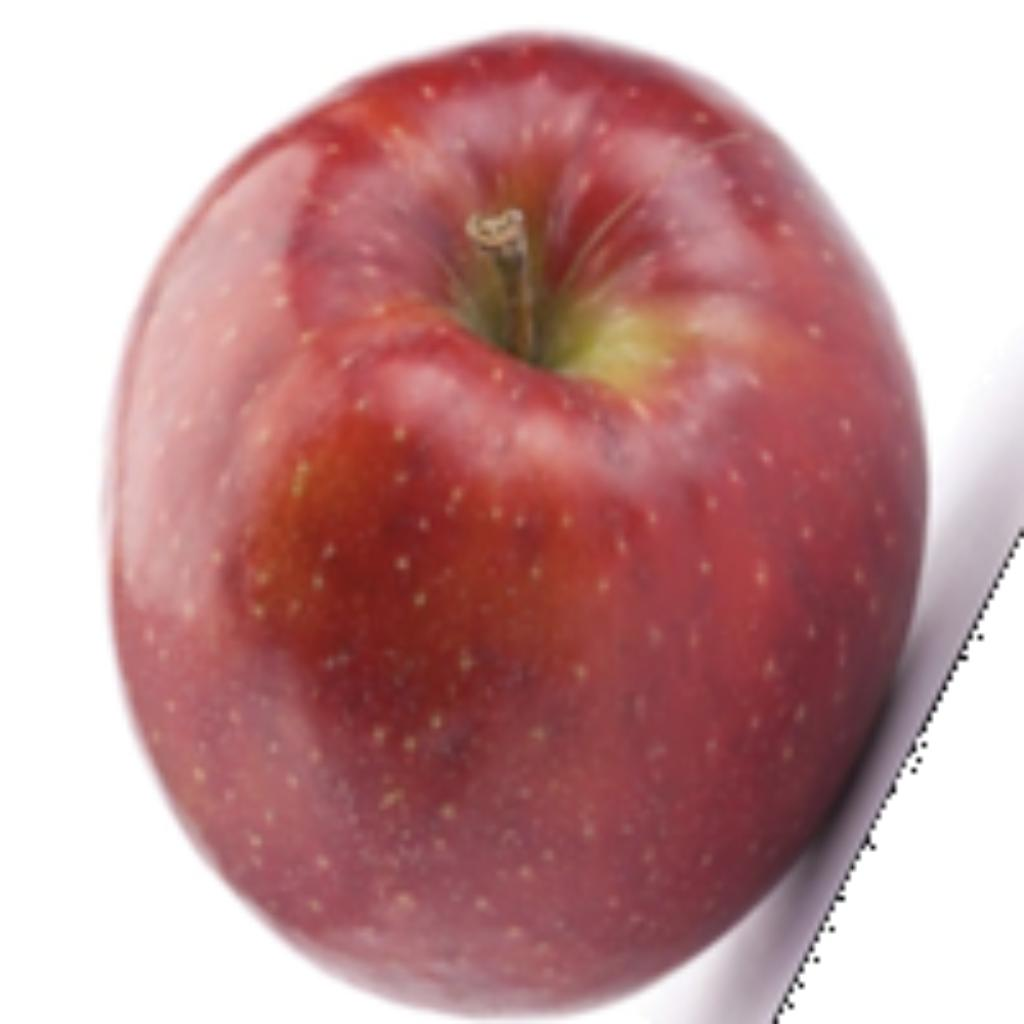apple: (92, 20, 1019, 1019)
